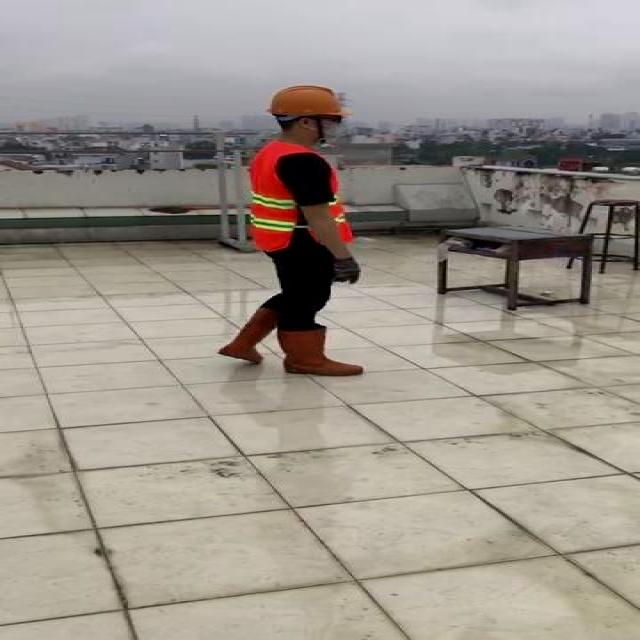boots: (276, 327, 362, 377), (217, 309, 275, 364)
face_mask: (302, 111, 347, 143)
hand_glove: (330, 255, 362, 285)
head_helmet: (263, 83, 354, 120)
person: (204, 82, 374, 381)
vest: (245, 142, 354, 251)
